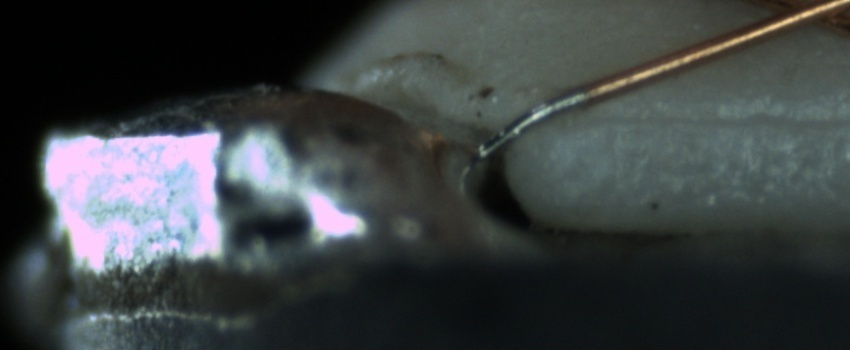CL: (737, 0, 848, 39)
DL: (598, 85, 850, 151)
TS: (476, 87, 591, 158)
TTCW: (472, 78, 621, 161)
